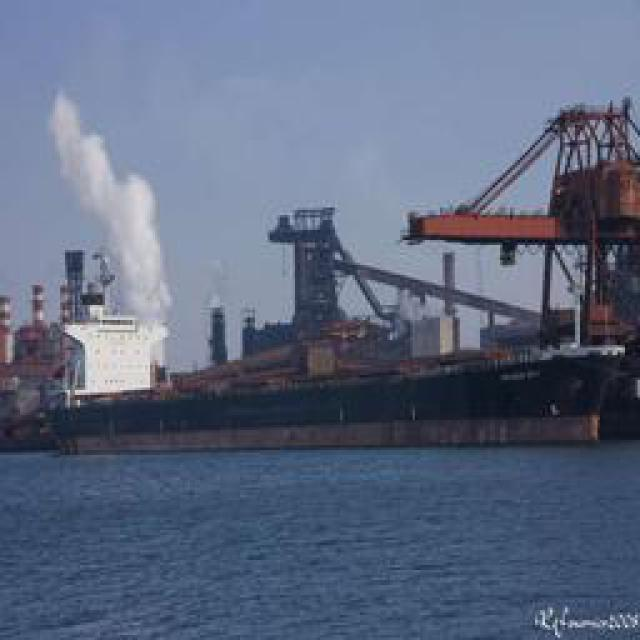Ship: (44, 196, 617, 429)
